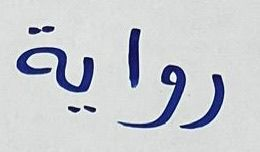alef: (125, 26, 142, 90)
reh: (192, 61, 226, 135)
teh_marbota: (15, 22, 66, 93)
waw: (144, 56, 187, 124)
yeh: (68, 50, 98, 118)
